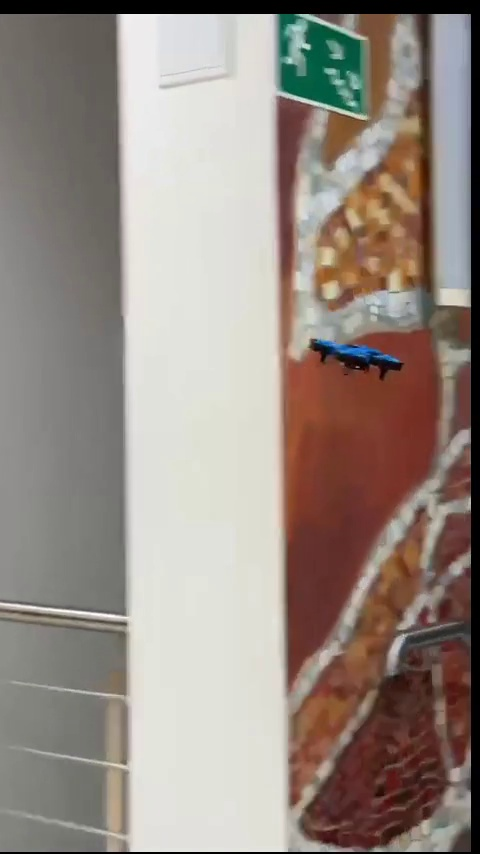drone: (309, 333, 397, 382)
